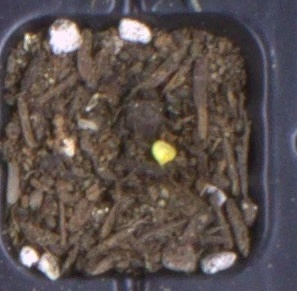chilli seed: (150, 140, 177, 167)
